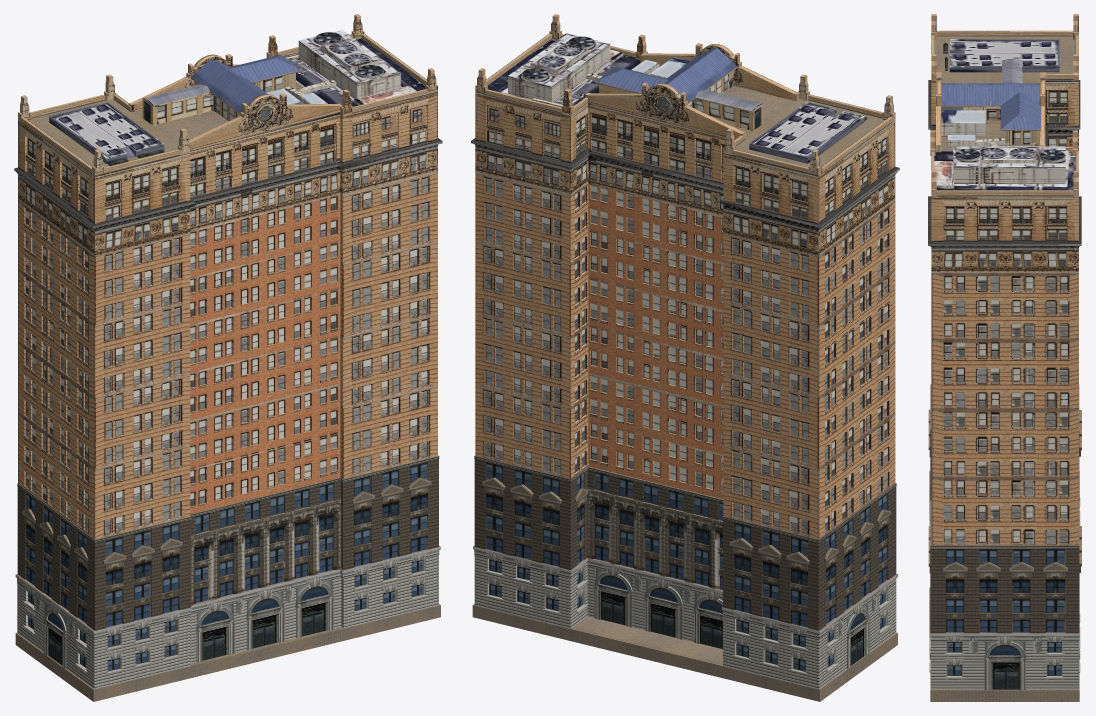
Rendered from whitehall_building.glb.
3 renders of one model, left to right at view 1: azimuth 30°, elevation 25°; view 2: azimuth 150°, elevation 25°; view 3: azimuth 270°, elevation 25°, orthographic. The views are drawn at different scales.
Parts seen in each view (by area): view 1: Object_5, Object_6, Object_7, Object_4, Object_8; view 2: Object_5, Object_6, Object_7, Object_4, Object_8; view 3: Object_5, Object_6, Object_7, Object_4, Object_8.
Part boxes in pixels (left/top/right/bottom): Object_5: left=14, top=14, right=442, bottom=665; Object_6: left=15, top=456, right=440, bottom=675; Object_7: left=17, top=459, right=438, bottom=630; Object_4: left=15, top=82, right=440, bottom=701; Object_8: left=17, top=555, right=438, bottom=689; Object_5: left=471, top=14, right=899, bottom=665; Object_6: left=473, top=456, right=898, bottom=675; Object_7: left=474, top=459, right=896, bottom=630; Object_4: left=472, top=86, right=897, bottom=701; Object_8: left=474, top=555, right=896, bottom=689; Object_5: left=928, top=14, right=1081, bottom=689; Object_6: left=928, top=420, right=1081, bottom=689; Object_7: left=930, top=432, right=1079, bottom=633; Object_4: left=928, top=36, right=1081, bottom=701; Object_8: left=931, top=641, right=1078, bottom=689.
Size of the model in its own units: 60.36 by 92.56 by 23.95.
5 materials, 5 textured.
